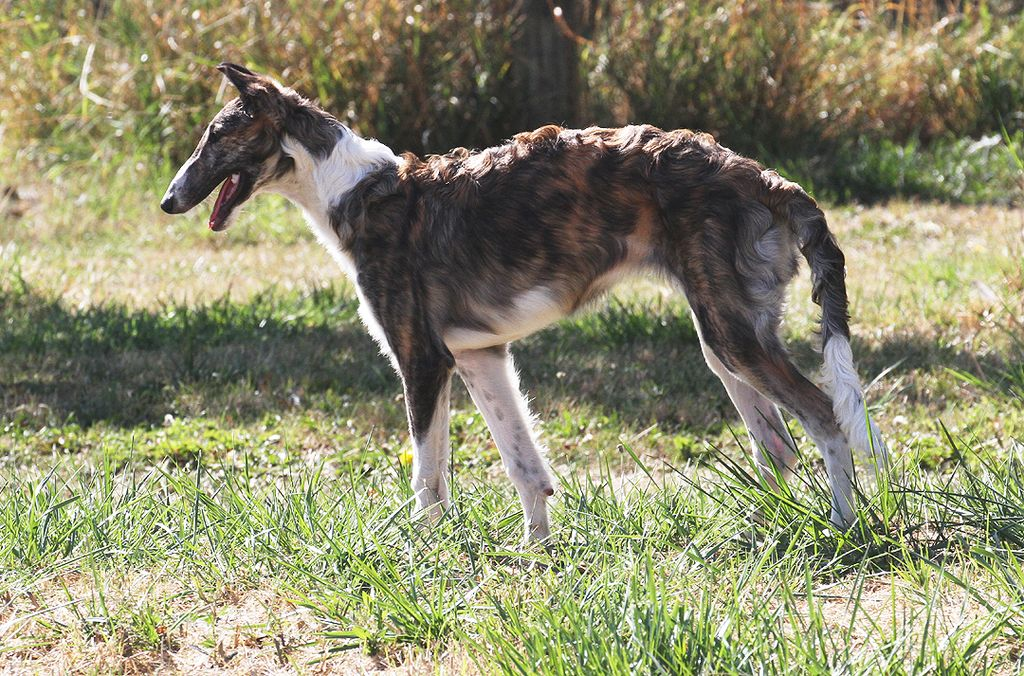borzoi: (136, 56, 896, 541)
